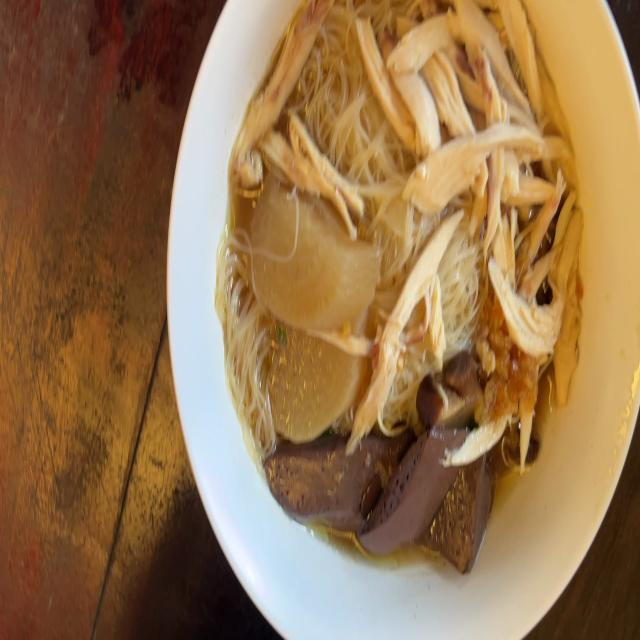boiled_chicken_blood_jelly: (266, 424, 486, 553)
chicken_shredded: (376, 0, 577, 221), (488, 224, 577, 451), (240, 2, 319, 174)
daikon_radish: (256, 191, 368, 421)
noodle: (220, 0, 596, 579)
